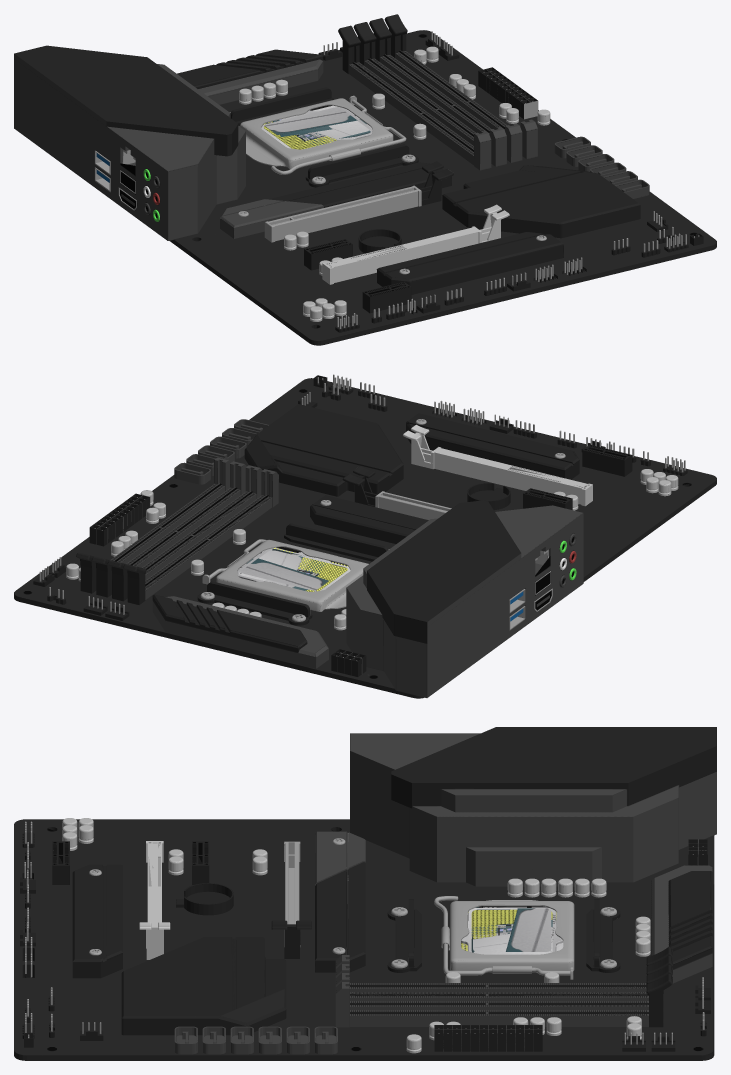
File: ATX_INTEL.fbx
The picture shows the model from 3 angles, top to bottom: view 1: azimuth 30°, elevation 25°; view 2: azimuth 150°, elevation 25°; view 3: azimuth 270°, elevation 25°; orthographic projection. The views are drawn at different scales.
Visible parts, largest first — view 1: BOARD.001, IO, RAM.001, BRIDGE.001, M2 2.001, PINS, M2 1.001, WHATEVERTHISIS, PCI E1.001, INTEL_LOCK, PCI E3.001, COOLER_BRACKET.001 (+8 smaller); view 2: IO, BOARD.001, RAM.001, BRIDGE.001, PINS, WHATEVERTHISIS, M2 2.001, PCI E3.001, COOLER_BRACKET.001, INTEL_LOCK, M2 1.001, Cylinder.024 (+7 smaller); view 3: BOARD.001, IO, RAM.001, BRIDGE.001, PINS, M2 1.001, WHATEVERTHISIS, M2 2.001, Cylinder.024, INTEL_LOCK, SATA, COOLER_BRACKET.001 (+8 smaller).
Part boxes in pixels (x1,y1,x2,y2): BOARD.001: [169, 30, 716, 345]; IO: [14, 45, 245, 240]; RAM.001: [338, 14, 537, 170]; BRIDGE.001: [442, 165, 640, 238]; M2 2.001: [376, 232, 563, 294]; PINS: [318, 31, 703, 332]; M2 1.001: [220, 162, 451, 238]; WHATEVERTHISIS: [177, 49, 323, 104]; PCI E1.001: [264, 161, 453, 242]; INTEL_LOCK: [239, 98, 393, 168]; PCI E3.001: [322, 204, 509, 284]; COOLER_BRACKET.001: [230, 87, 418, 187]; IO: [346, 500, 583, 697]; BOARD.001: [14, 378, 716, 698]; RAM.001: [76, 457, 278, 604]; BRIDGE.001: [244, 404, 403, 496]; PINS: [33, 374, 687, 676]; WHATEVERTHISIS: [152, 594, 328, 668]; M2 2.001: [406, 413, 579, 479]; PCI E3.001: [403, 424, 592, 506]; COOLER_BRACKET.001: [197, 523, 389, 625]; INTEL_LOCK: [216, 539, 368, 611]; M2 1.001: [310, 495, 428, 543]; Cylinder.024: [66, 469, 678, 630]; BOARD.001: [14, 819, 714, 1060]; IO: [350, 727, 716, 886]; RAM.001: [335, 946, 672, 1027]; BRIDGE.001: [121, 937, 286, 1035]; PINS: [20, 821, 710, 1051]; M2 1.001: [315, 831, 365, 972]; WHATEVERTHISIS: [651, 865, 712, 983]; M2 2.001: [72, 864, 122, 978]; Cylinder.024: [62, 818, 650, 1053]; INTEL_LOCK: [450, 900, 574, 973]; SATA: [174, 1026, 337, 1054]; COOLER_BRACKET.001: [387, 899, 620, 972].
Bounding box in the file's own units: 392 × 71.85 × 485.
